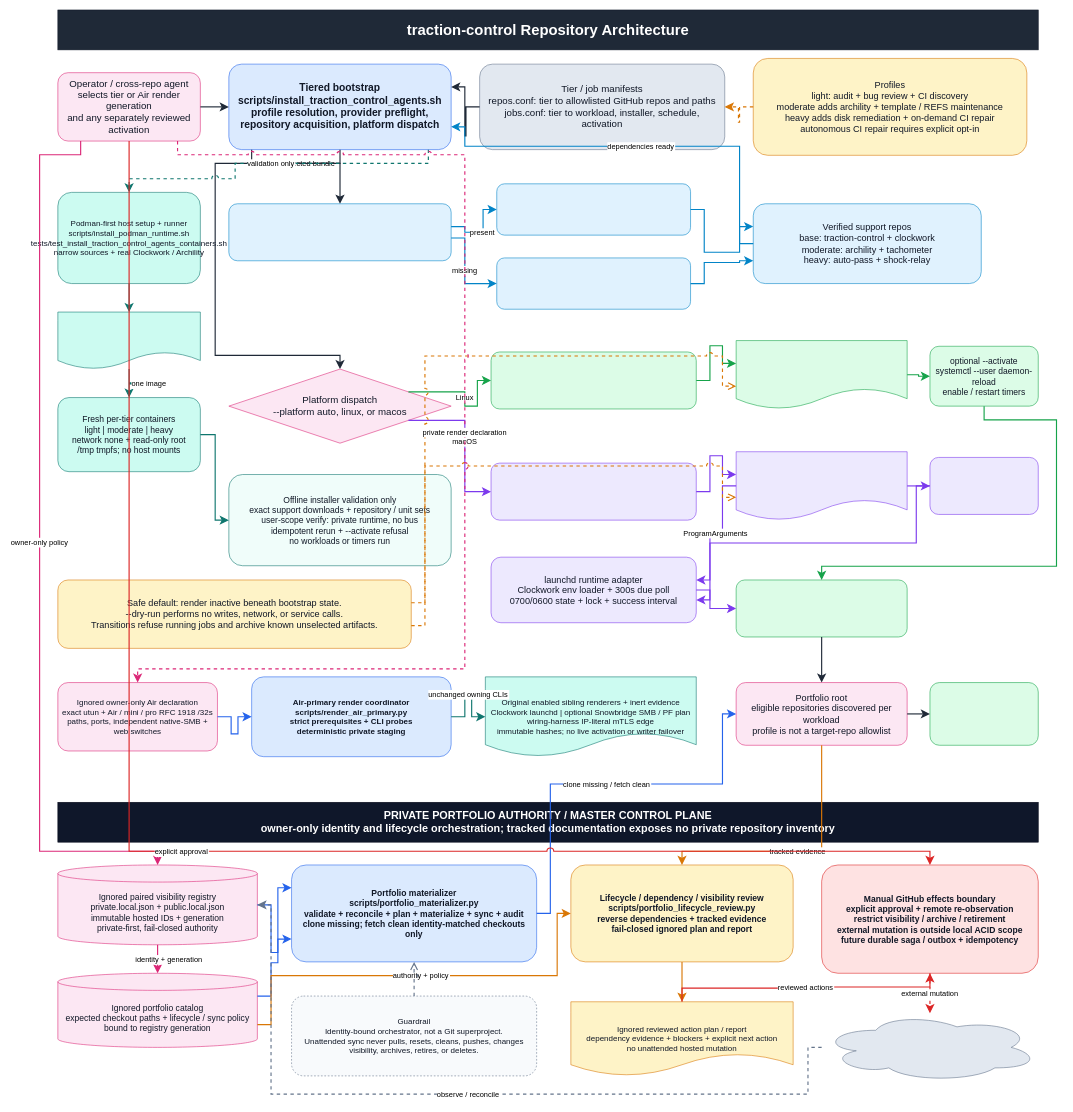
This 1073x1112 diagram has some shape labels left out. Each missing label, with the box of its shape:
Existing checkout verify Git worktree and expected origin slug: (496, 183, 691, 235)
GitHub hosted state repository identity + visibility + archive state: (821, 1013, 1038, 1082)
LaunchAgent artifacts io.github.casonk.traction-control.*.plist plutil validated: (736, 451, 907, 520)
Linux renderer per-job installer + Clockwork TOML template: (490, 351, 696, 409)
macOS renderer absolute argv, env, schedule, and log paths: (490, 463, 696, 520)
Missing checkout clone only allowlisted HTTPS or SSH remote: (496, 257, 691, 309)
optional --activate pre-render all + snapshot transition + rollback: (929, 457, 1038, 514)
Podman or Docker build one Linux test image from the narrow staged context: (57, 312, 200, 369)
Resolve selected repository bundle validate safe relative checkout paths: (228, 203, 451, 261)
Run logs + inventories repo-local validation / controlled changes: (929, 682, 1038, 745)
Selected scripts/* workloads provider preflight + clean-worktree guards: (736, 579, 907, 637)
systemd user artifacts *.service + *.timer or on-demand *.service: (736, 340, 907, 409)
